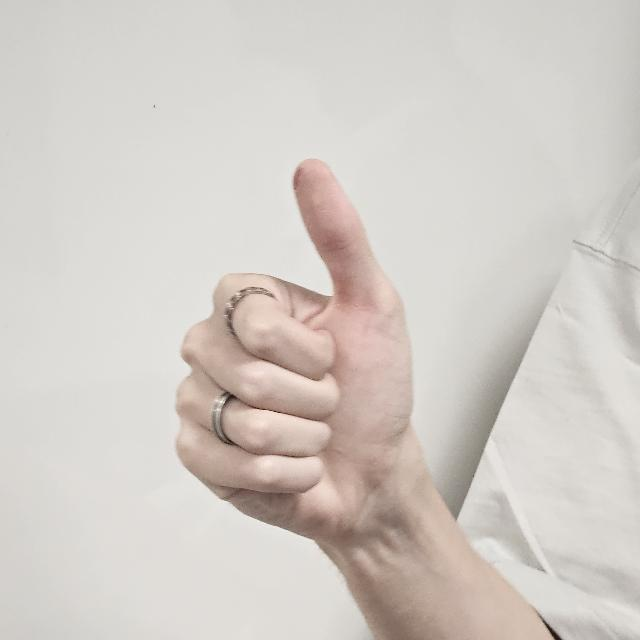Start: (166, 160, 432, 556)
